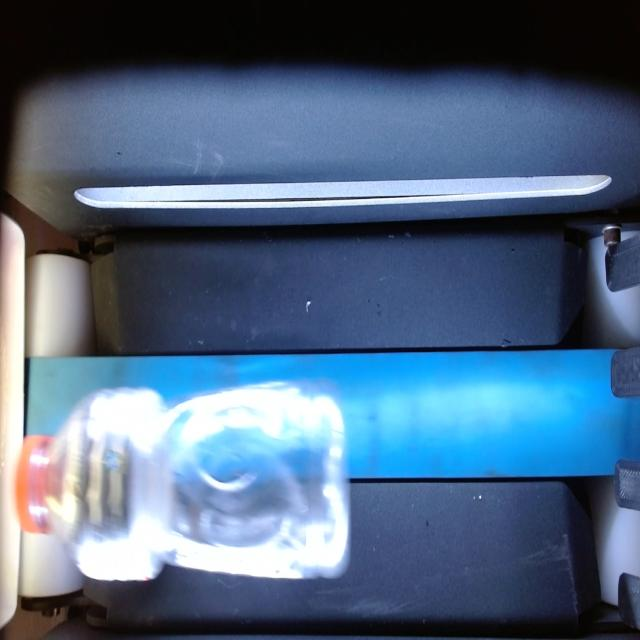bottom: (166, 382, 349, 578)
cap: (16, 436, 35, 531)
label: (76, 391, 131, 580)
neck: (34, 400, 91, 557)
